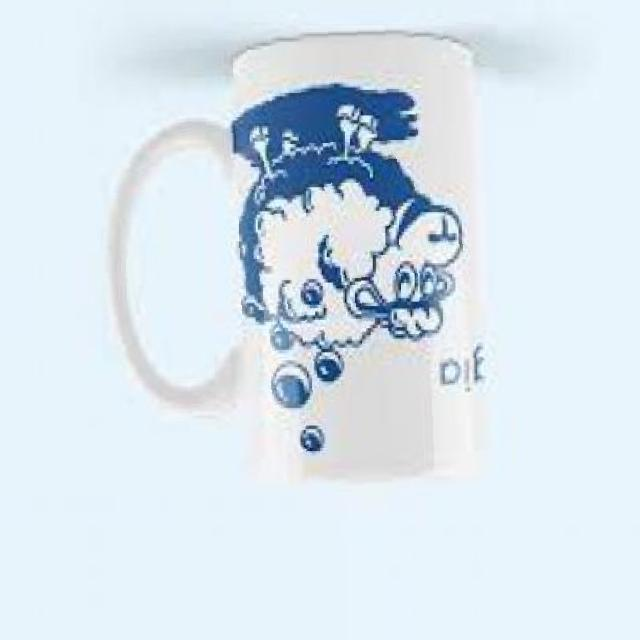cup: (93, 23, 513, 499)
